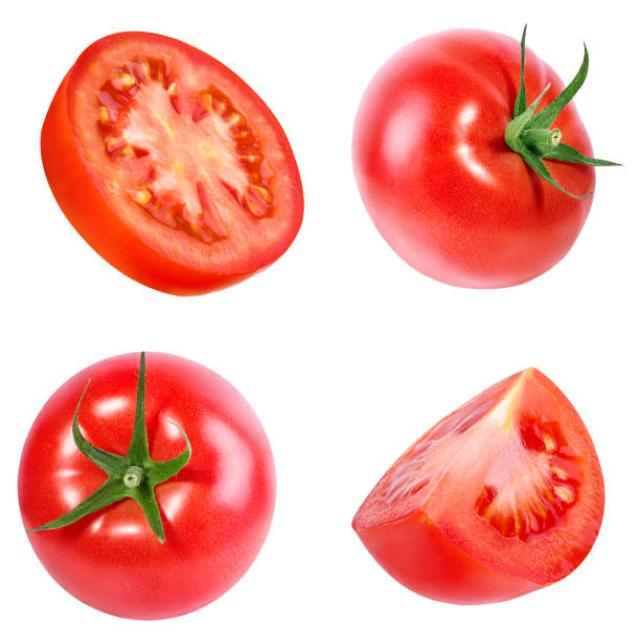Tomato: (43, 8, 315, 306), (348, 336, 622, 601)
